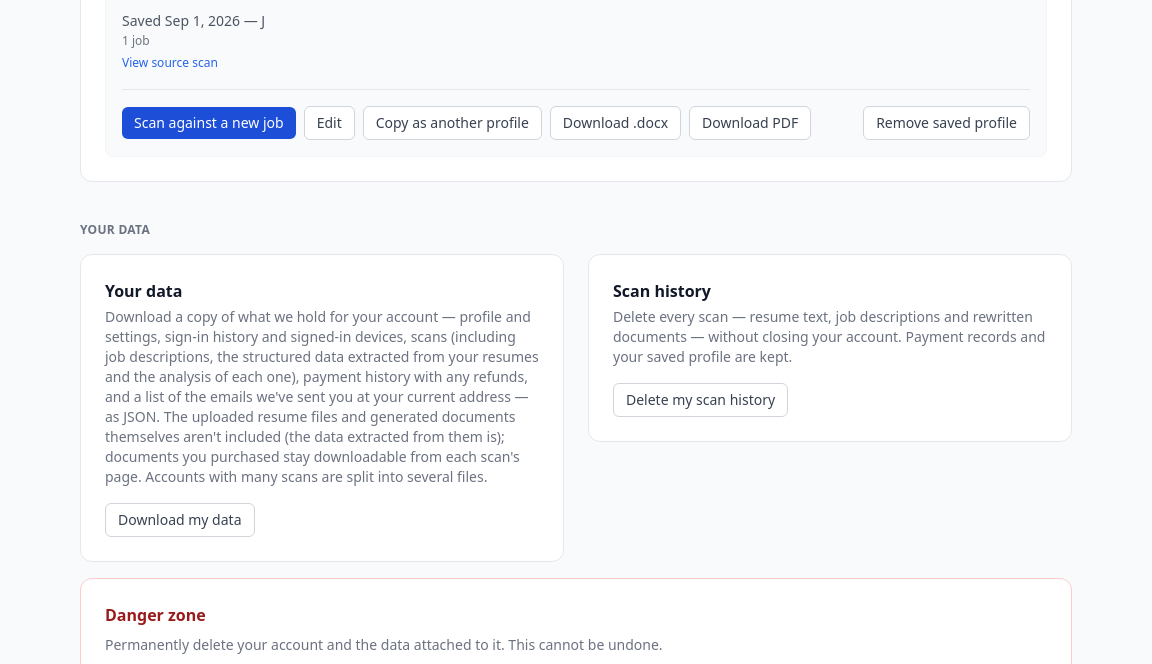
Scenario: the saved-profile editor survives refreshes of the card › a quiet refresh that fails leaves what is on screen alone
(page scrolled)
Check: the link "View source scan" is shown, box [122,54,218,71]
Click the button "Delete my scan history" at (701, 400), box [613,383,788,417]
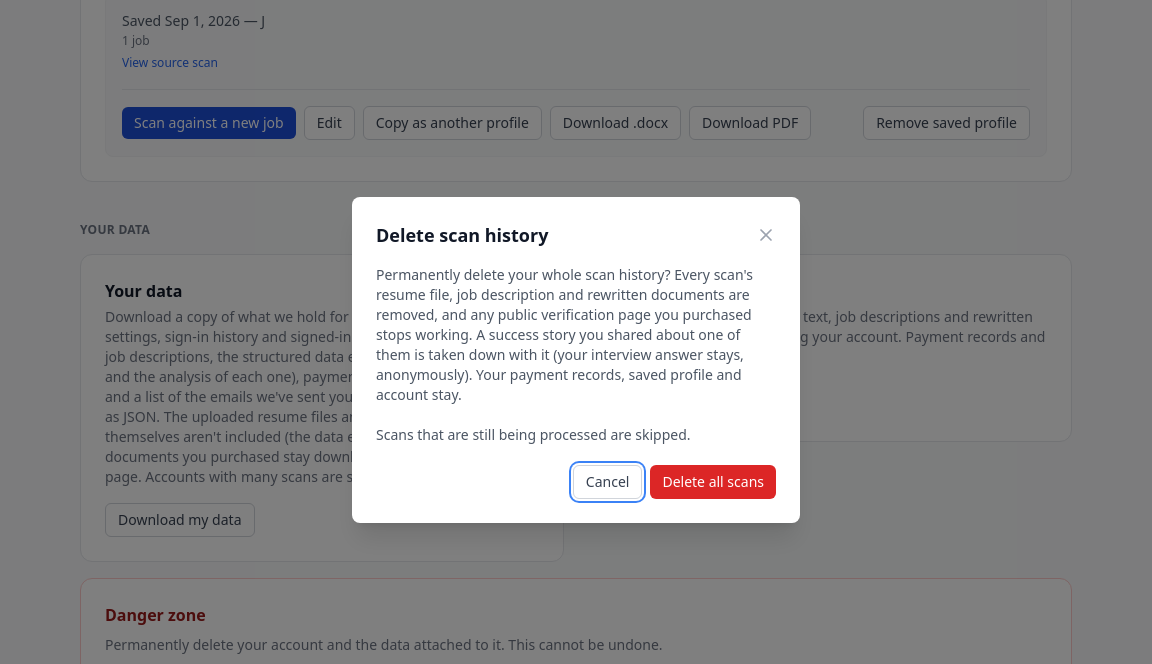
Click the button "Delete all scans" at (713, 482), box [650,465,776,499]
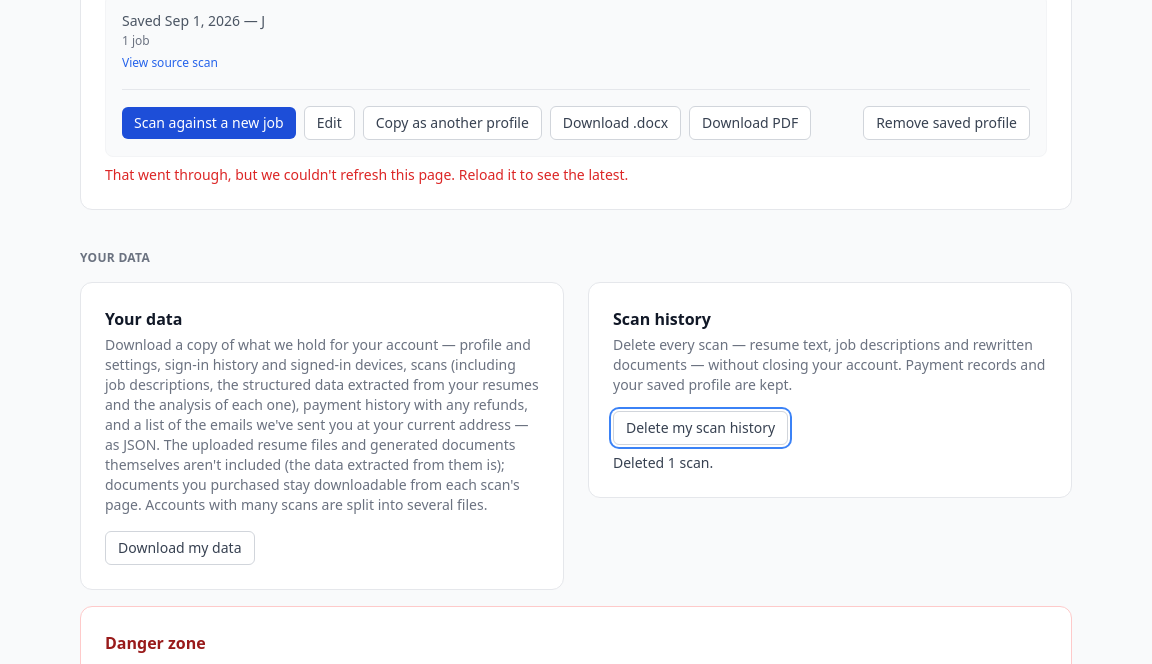
Check: the link "View source scan" is shown, box [122,54,218,71]
Check: the text "Deleted 1 scan." is shown, box [613,453,713,472]
